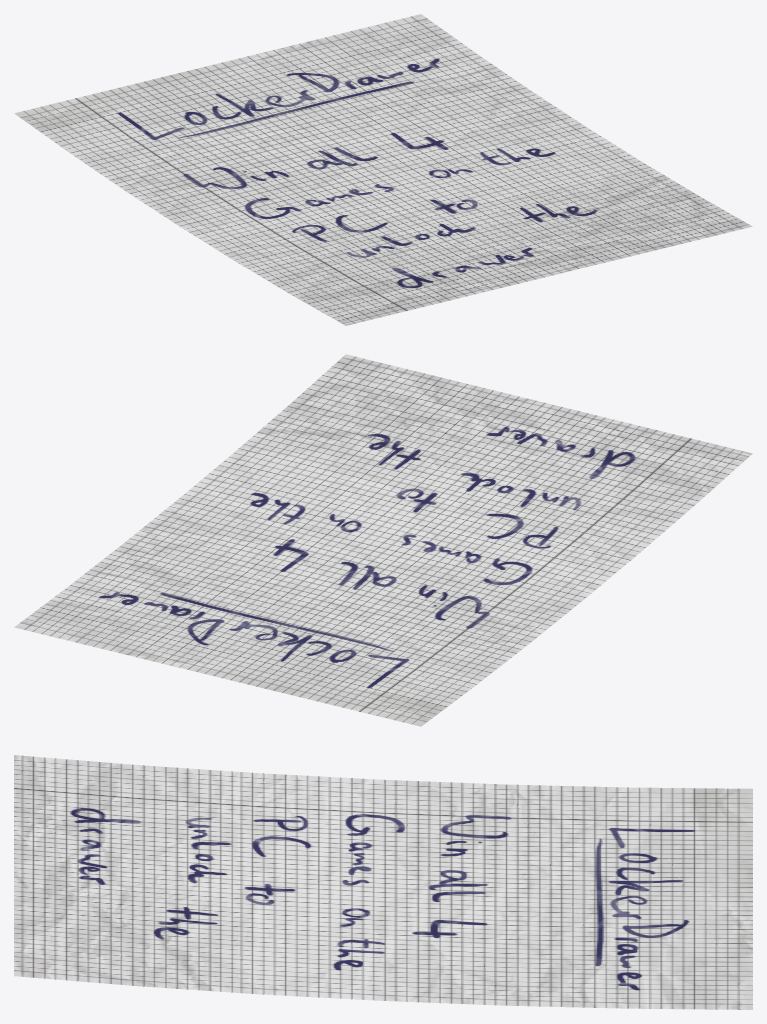
The model's file is blattpapier_lockerdrawer.fbx.
3 renders of one model, top to bottom at view 1: azimuth 30°, elevation 25°; view 2: azimuth 150°, elevation 25°; view 3: azimuth 270°, elevation 25°, orthographic. The views are drawn at different scales.
Parts seen in each view (by area): view 1: Ebene; view 2: Ebene; view 3: Ebene.
Part boxes in pixels (left/top/right/bottom): Ebene: left=14, top=14, right=752, bottom=325; Ebene: left=14, top=354, right=752, bottom=726; Ebene: left=14, top=755, right=752, bottom=1009.
Size of the model in its own units: 21 by 1.49 by 29.65.
Materials: 1 (1 with a texture image).
